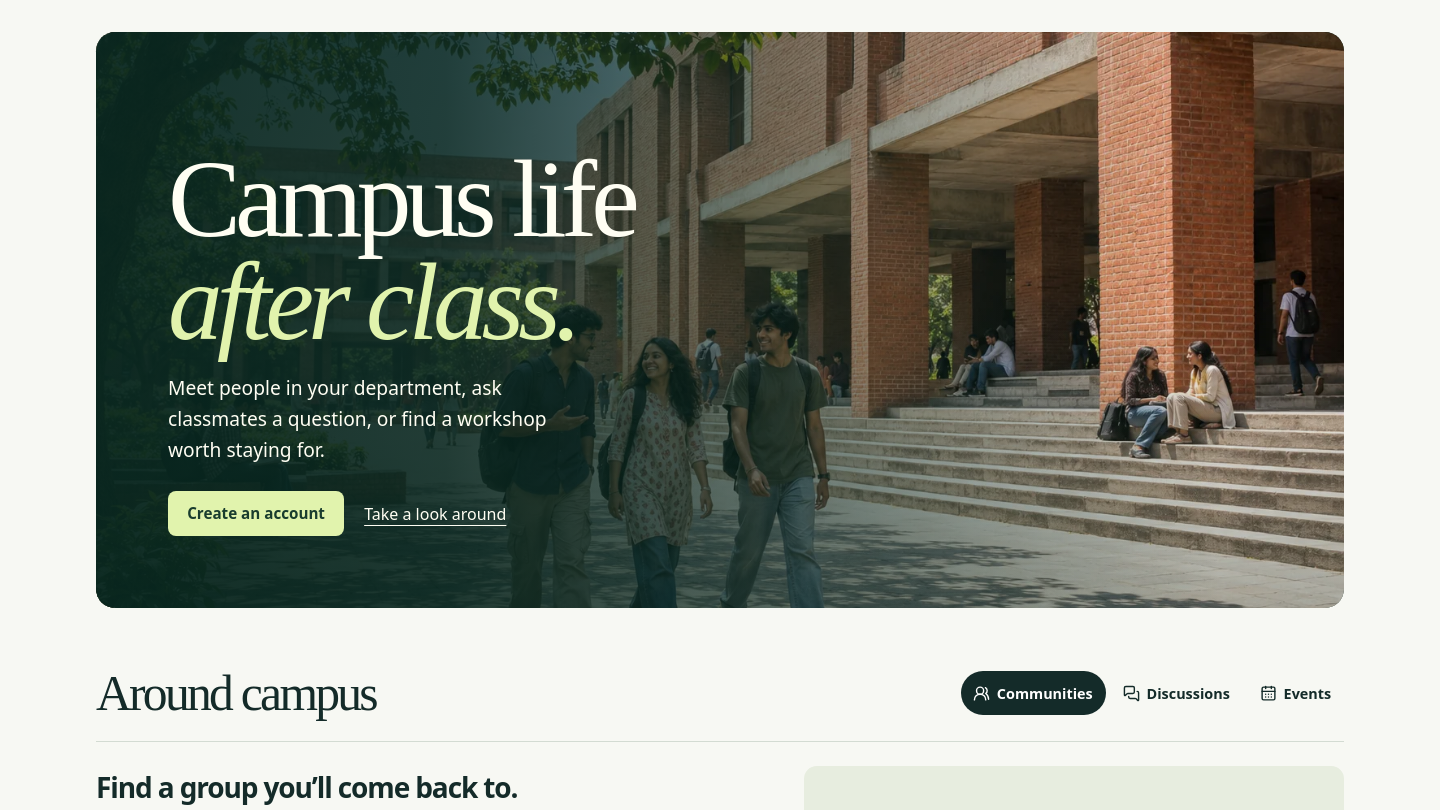
Test case: LandingPage › opens and steps through the campus preview modal
The image size is (1440, 810).
Click the button "Take a look around": click(435, 514) top-left (364, 491), bottom-right (506, 536)
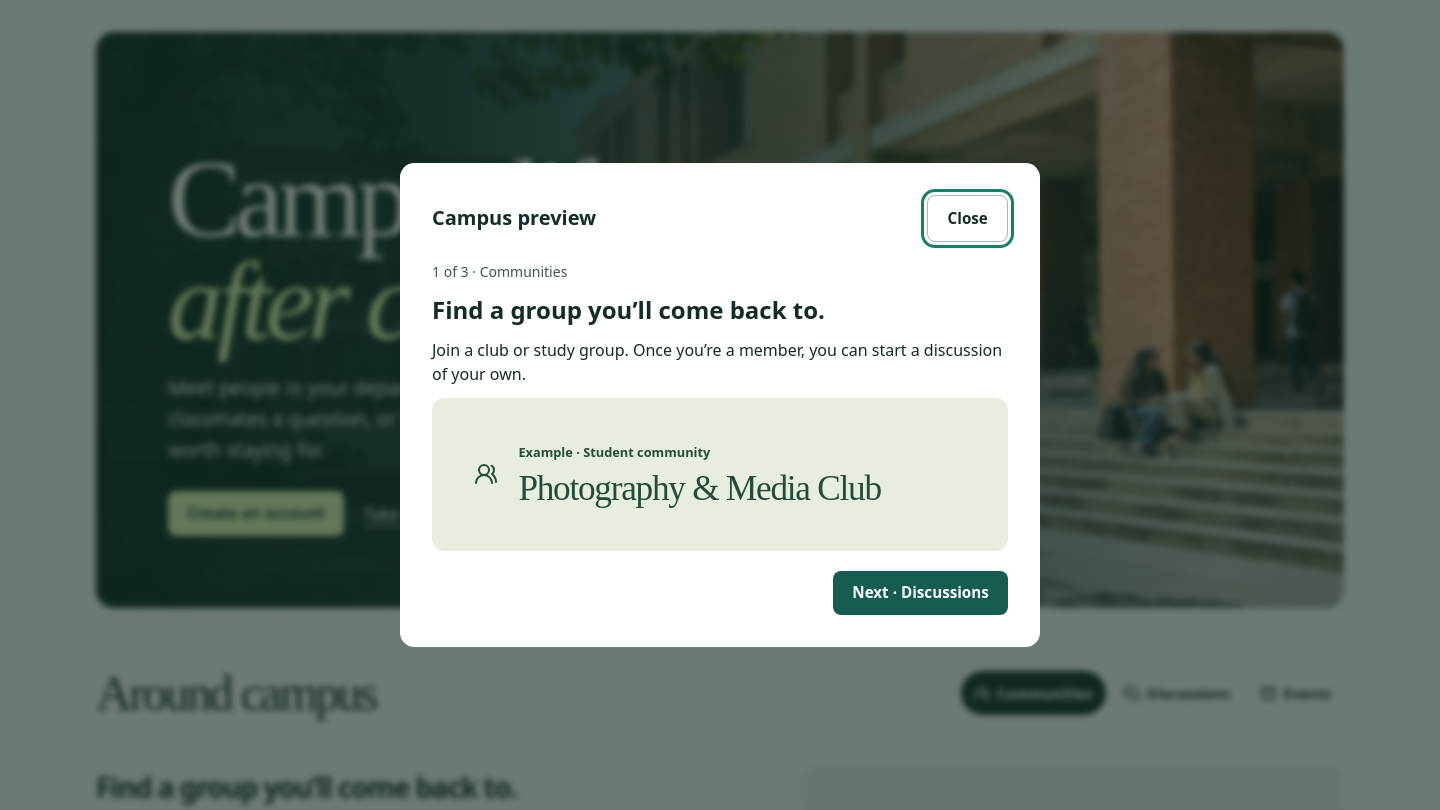
Expected: the dialog is shown, top-left (400, 163), bottom-right (1040, 647)
Expected: the text "1 of 3 · Communities" is shown, top-left (432, 262), bottom-right (567, 280)
Click the button "Next · Discussions": click(921, 593) top-left (833, 570), bottom-right (1008, 615)
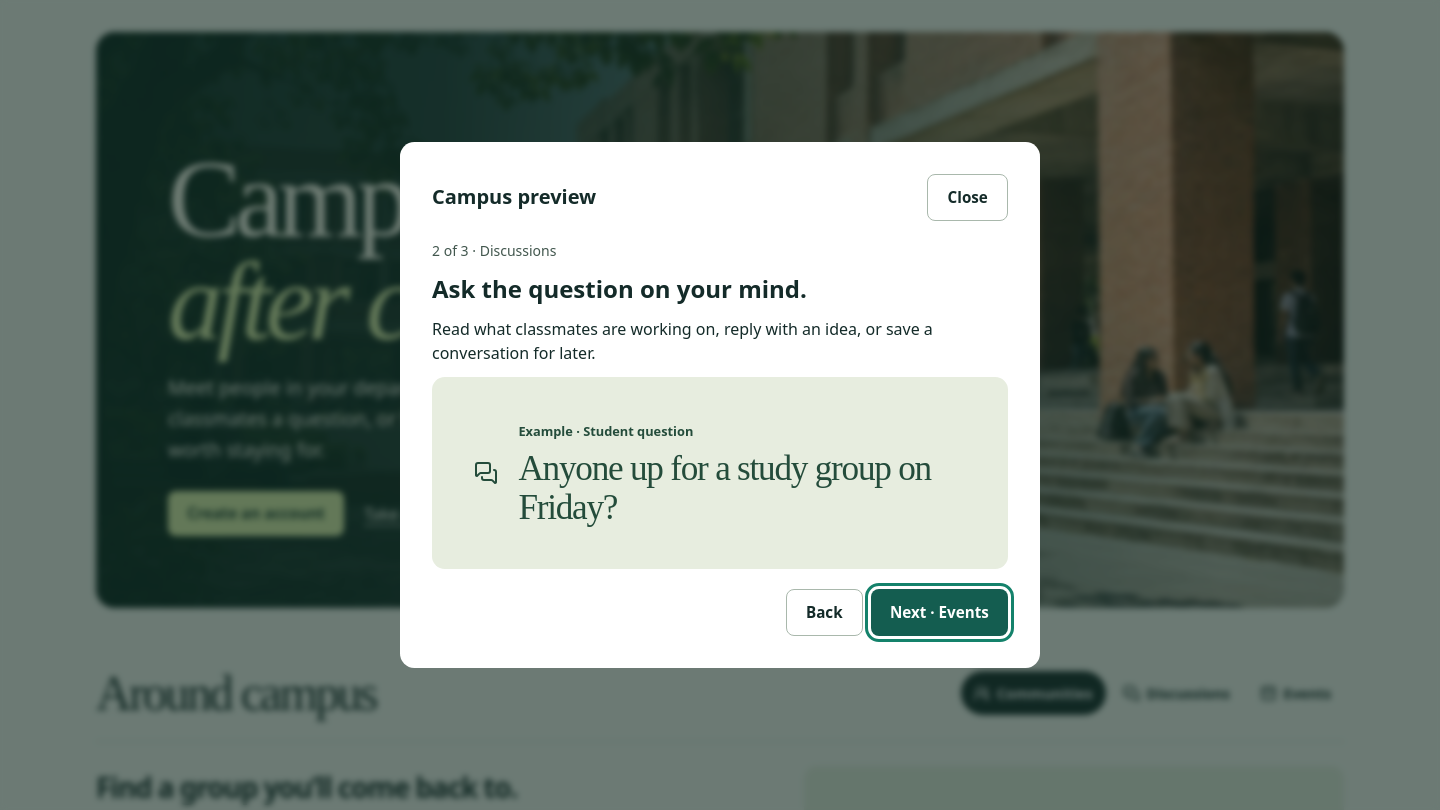
Expected: the text "2 of 3 · Discussions" is shown, top-left (432, 241), bottom-right (556, 260)
